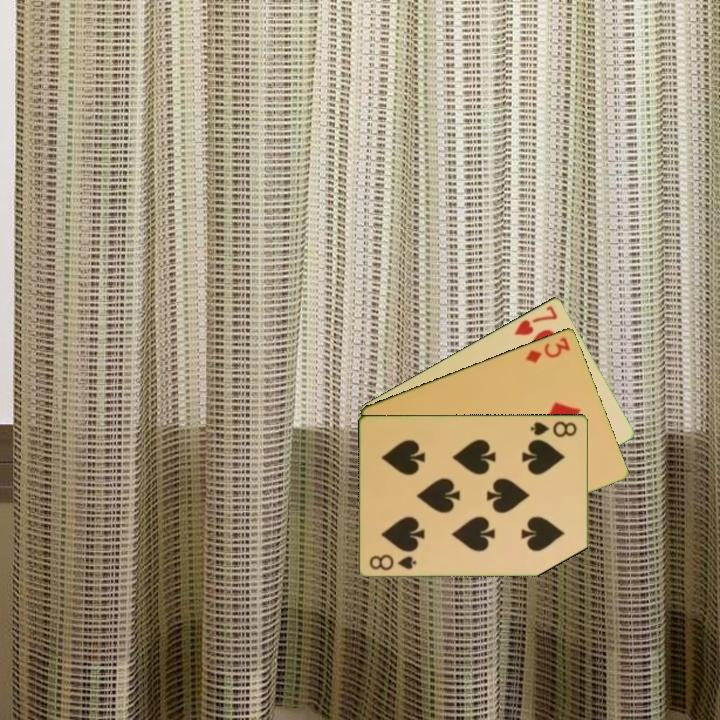3d: (522, 333, 573, 365)
7h: (510, 302, 561, 338)
8s: (528, 417, 580, 440), (366, 551, 420, 573)
